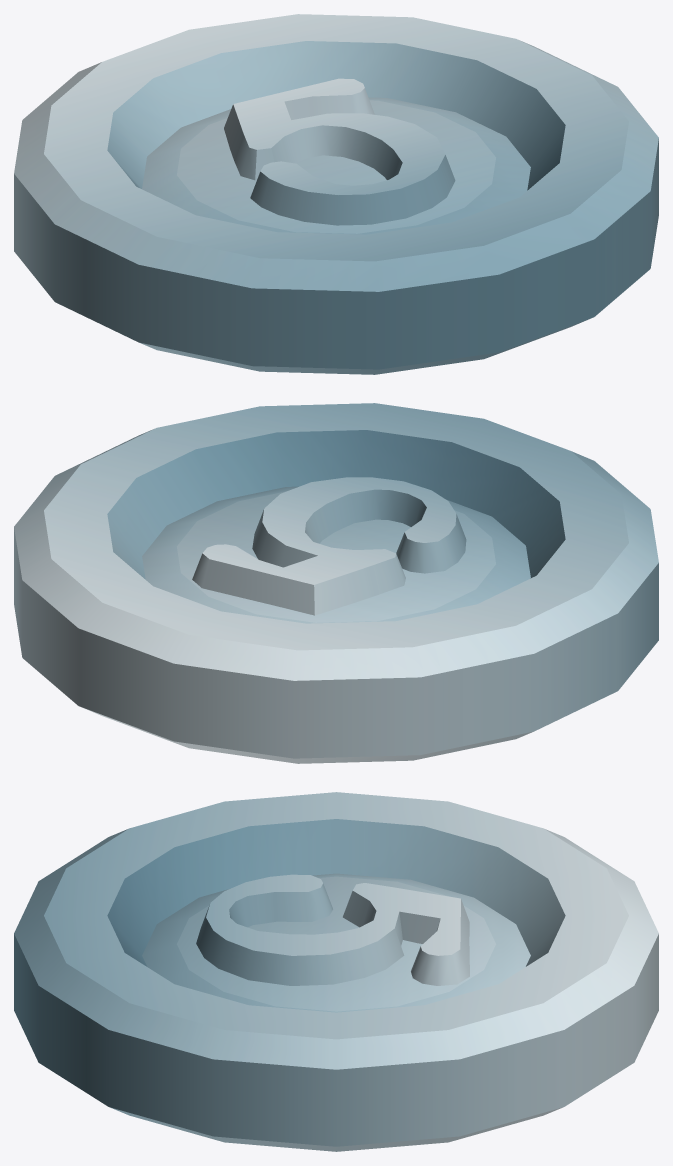
File: coin_5_silver.glb
3 renders of one model, top to bottom at view 1: azimuth 30°, elevation 25°; view 2: azimuth 150°, elevation 25°; view 3: azimuth 270°, elevation 25°, orthographic.
Parts seen in each view (by area): view 1: coin_5_silver; view 2: coin_5_silver; view 3: coin_5_silver.
Boxes of the visible parts, x1=… form: coin_5_silver: x1=14, y1=14, x2=658, y2=374; coin_5_silver: x1=14, y1=403, x2=658, y2=763; coin_5_silver: x1=14, y1=792, x2=658, y2=1151.
Size of the model in its own units: 1.04 by 0.2 by 1.04.
Materials: 1 (1 with a texture image).
